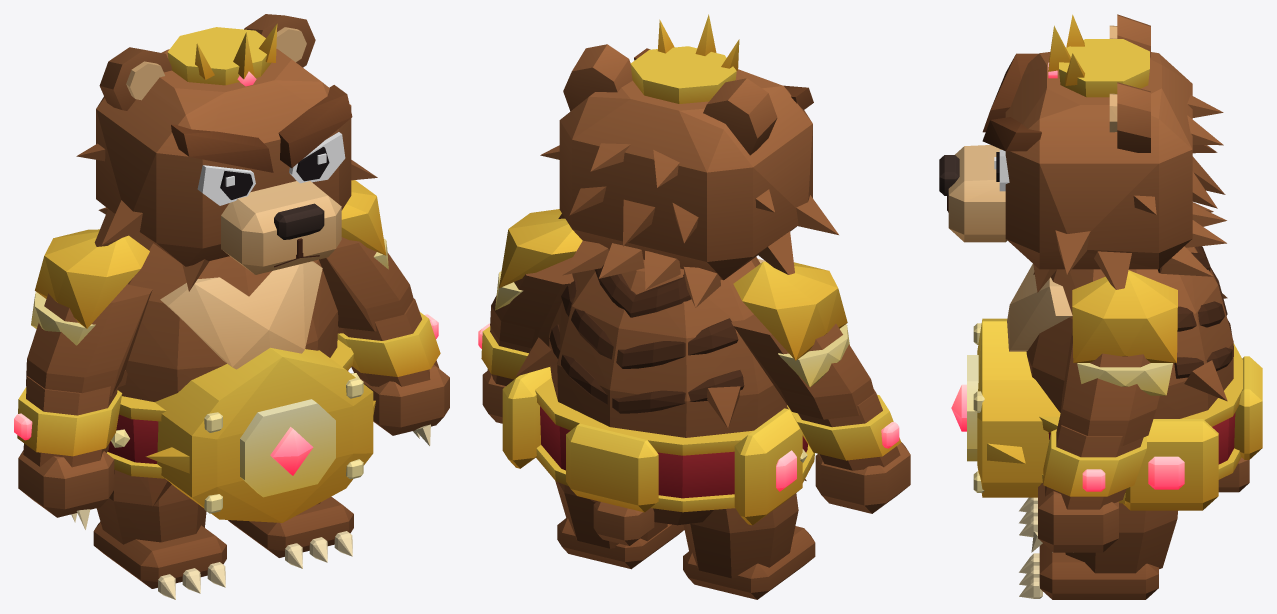
Rendered from TitleBeltBear.glb.
The picture shows the model from 3 angles, left to right: view 1: azimuth 30°, elevation 25°; view 2: azimuth 150°, elevation 25°; view 3: azimuth 270°, elevation 25°; orthographic projection.
Parts seen in each view (by area): view 1: TitleBeltBear; view 2: TitleBeltBear; view 3: TitleBeltBear.
Part boxes in pixels (<box>): TitleBeltBear: <box>14,14,449,599</box>; TitleBeltBear: <box>478,14,910,599</box>; TitleBeltBear: <box>939,14,1262,599</box>.
Bounding box in the file's own units: 0.92 × 1.12 × 0.623.
1 material, 1 textured.
